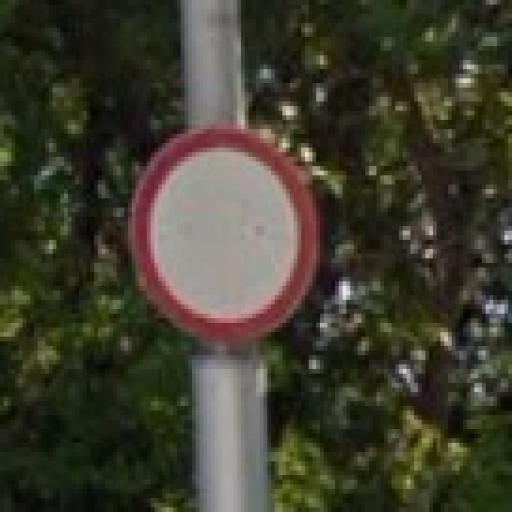traffic_sign: (133, 125, 321, 347)
